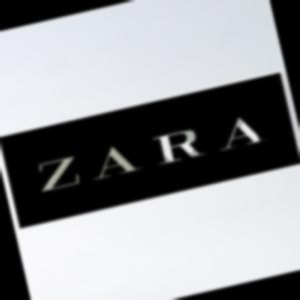zara: (256, 54, 284, 162)
